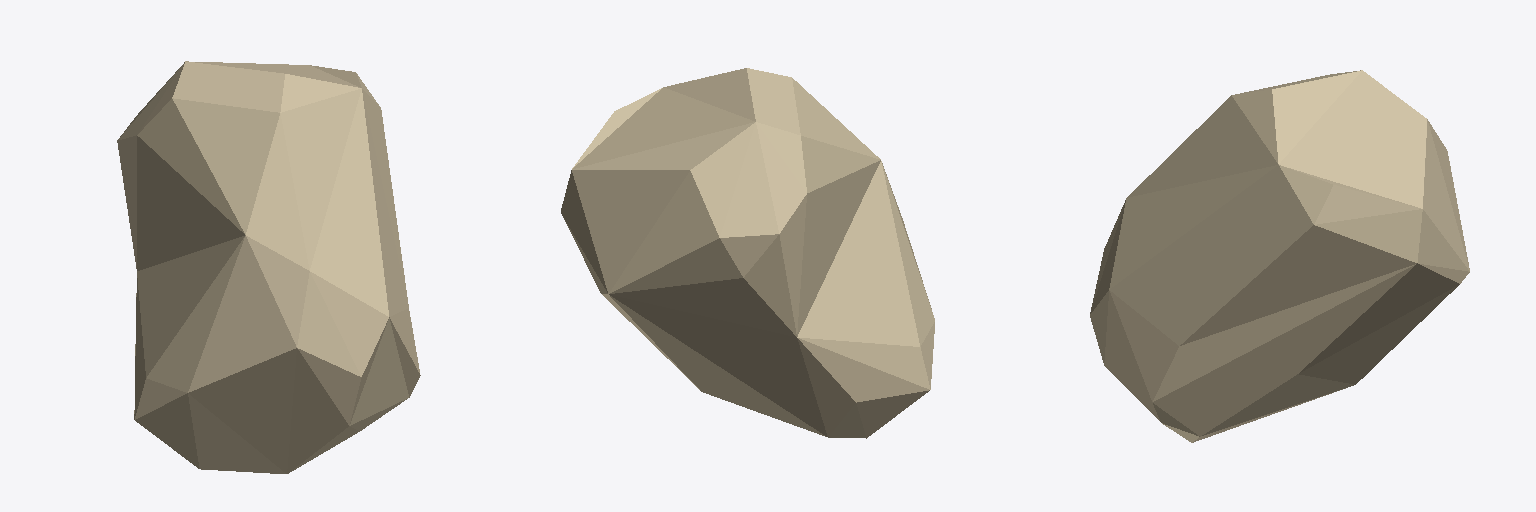
3 views of the same model, side by side, from view 1: azimuth 30°, elevation 25°; view 2: azimuth 150°, elevation 25°; view 3: azimuth 270°, elevation 25° (orthographic).
Visible parts, largest first — view 1: 左すね; view 2: 左すね; view 3: 左すね.
Part boxes in pixels (bbox=[...]): 左すね: bbox=[117, 61, 420, 473]; 左すね: bbox=[561, 68, 934, 438]; 左すね: bbox=[1090, 70, 1469, 442].
Size of the model in its own units: 0.6808 by 0.8193 by 0.789.
Materials: 1 (1 with a texture image).